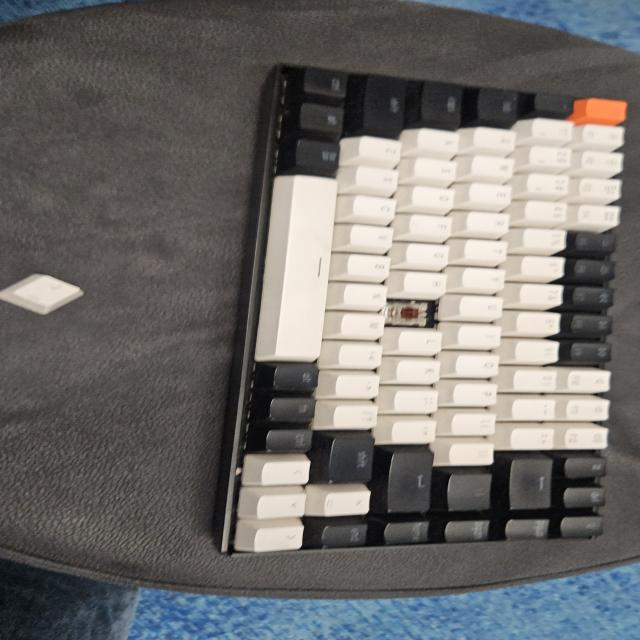C: (391, 302, 427, 322)
